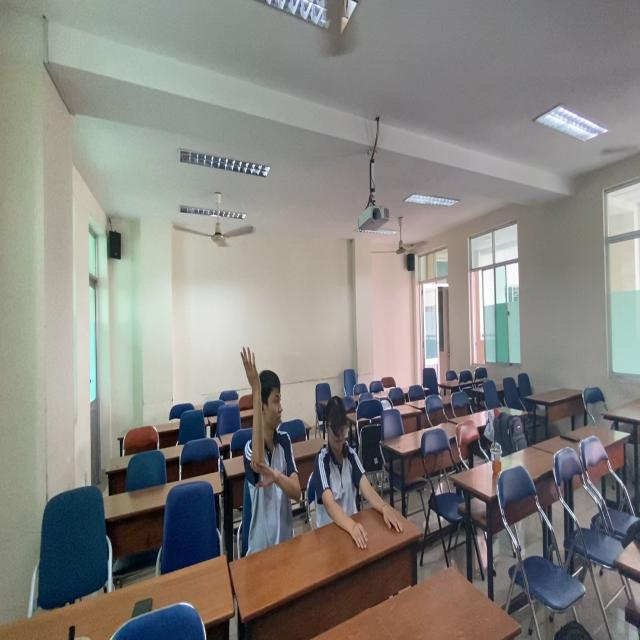raise_hand: (238, 341, 307, 533)
